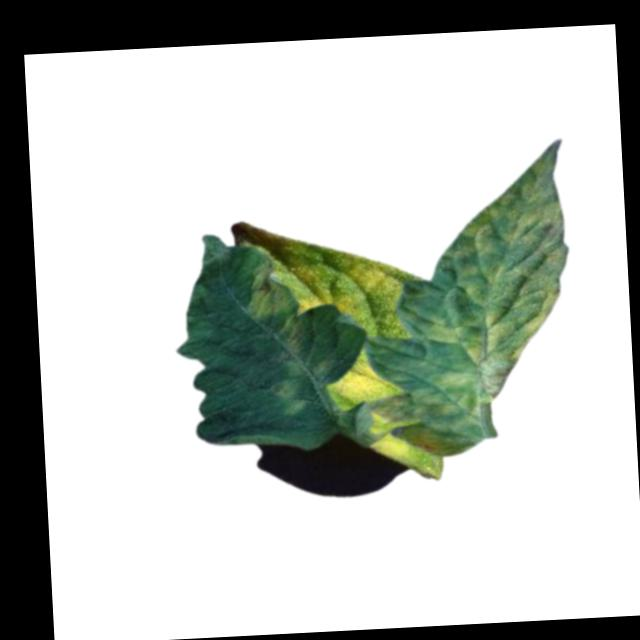Leaf_Mold: (394, 142, 579, 466), (295, 255, 407, 322), (243, 253, 305, 353), (328, 350, 400, 412), (377, 430, 417, 461)
